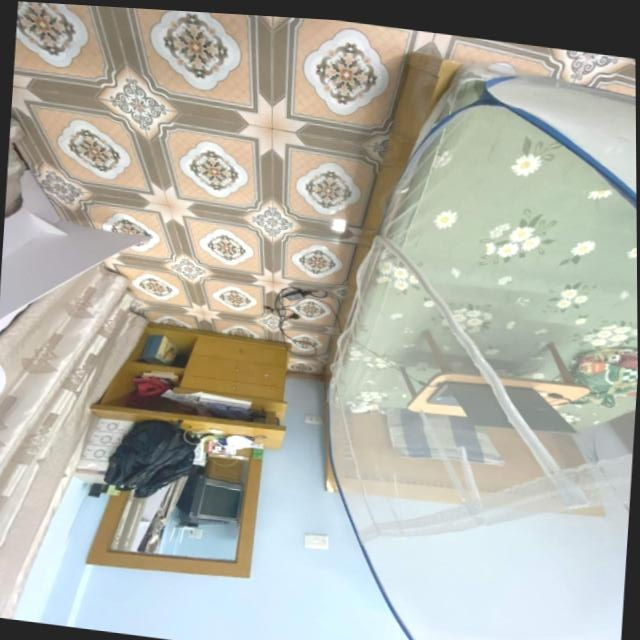outlet: (303, 415, 322, 427)
